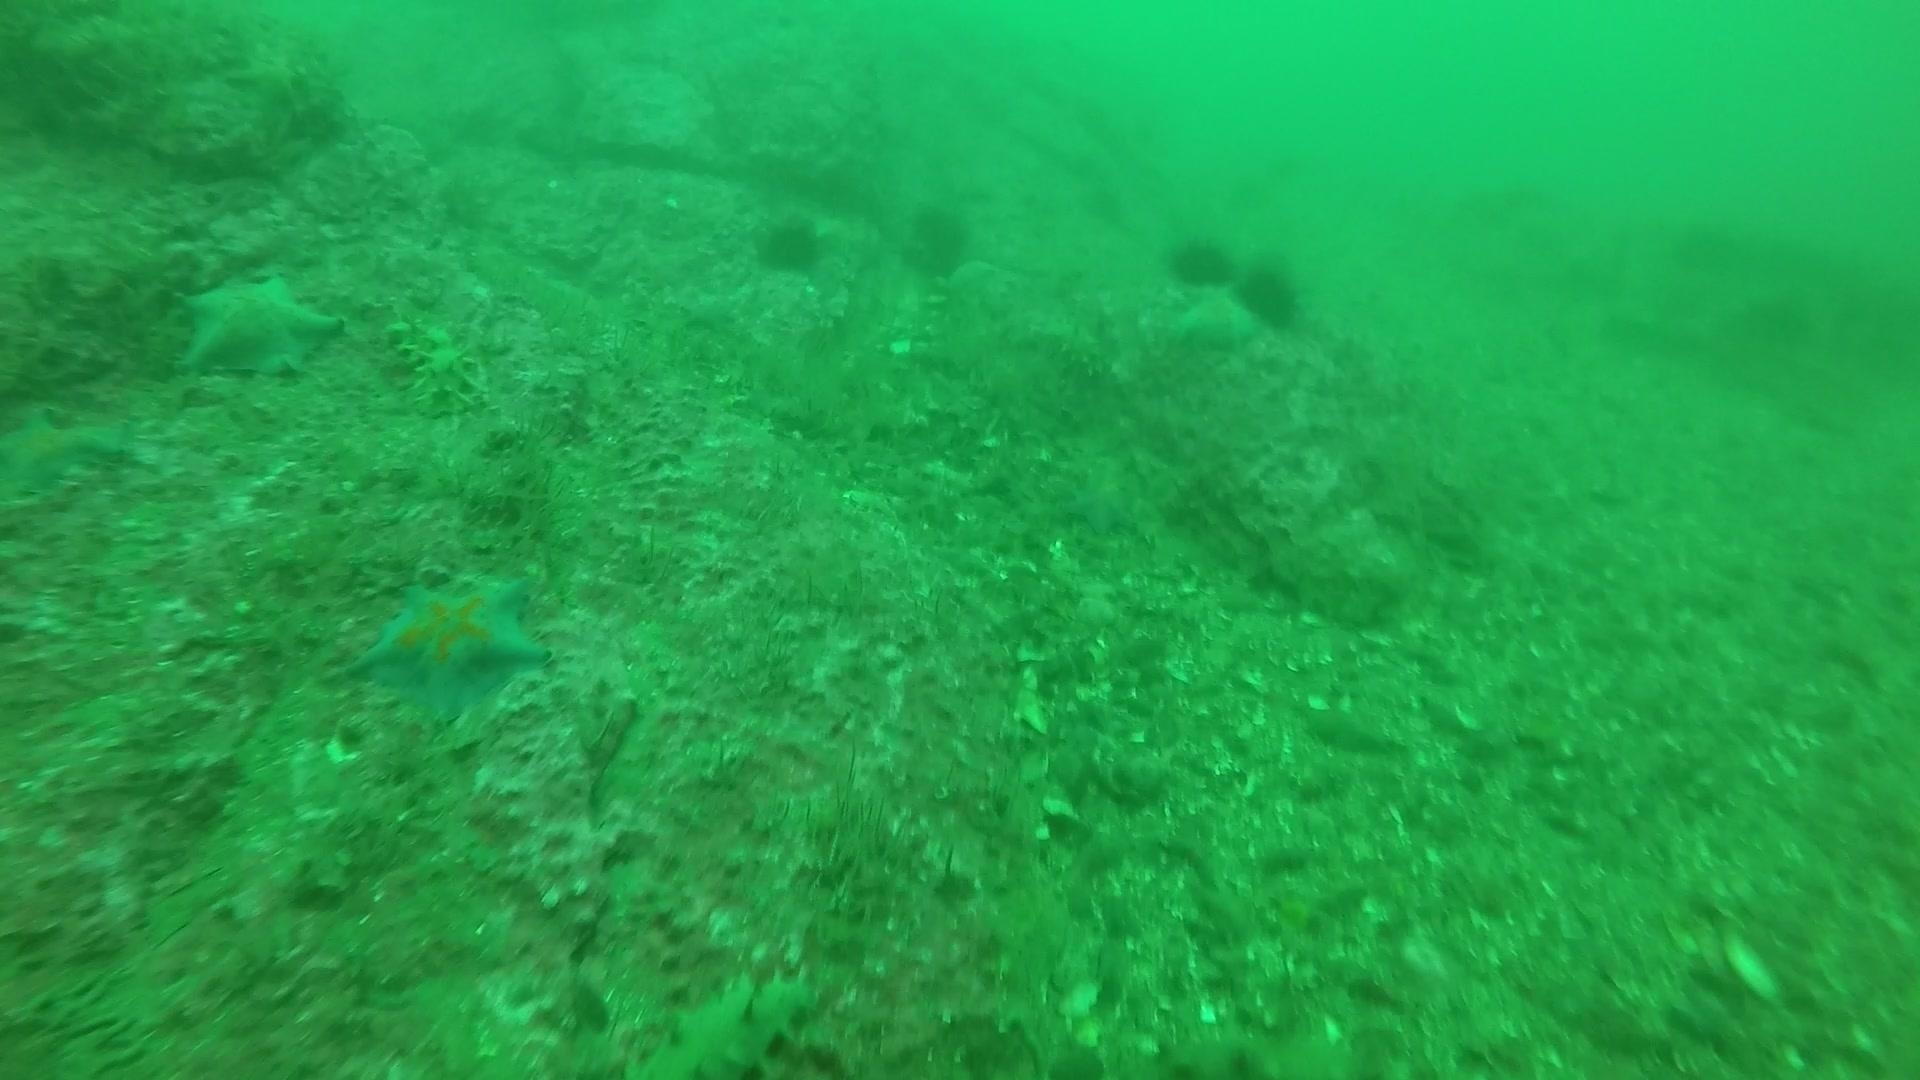echinus: (899, 199, 977, 282), (1233, 257, 1307, 334), (750, 208, 829, 280), (1164, 229, 1236, 291)
holothurian: (636, 961, 828, 1077), (382, 306, 491, 415)
starfish: (347, 563, 554, 735), (166, 265, 348, 386), (1, 398, 138, 502), (382, 307, 491, 415), (1054, 456, 1149, 541), (1164, 282, 1265, 353)
